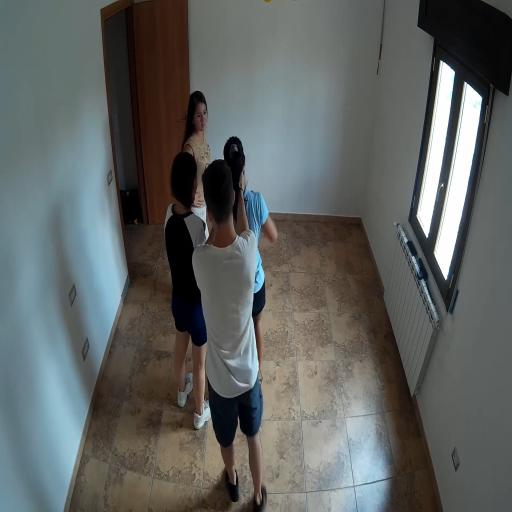violencia: (183, 129, 295, 512)
